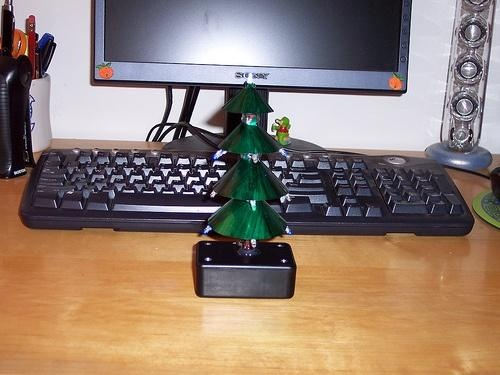tvmonitor: (90, 1, 413, 156)
